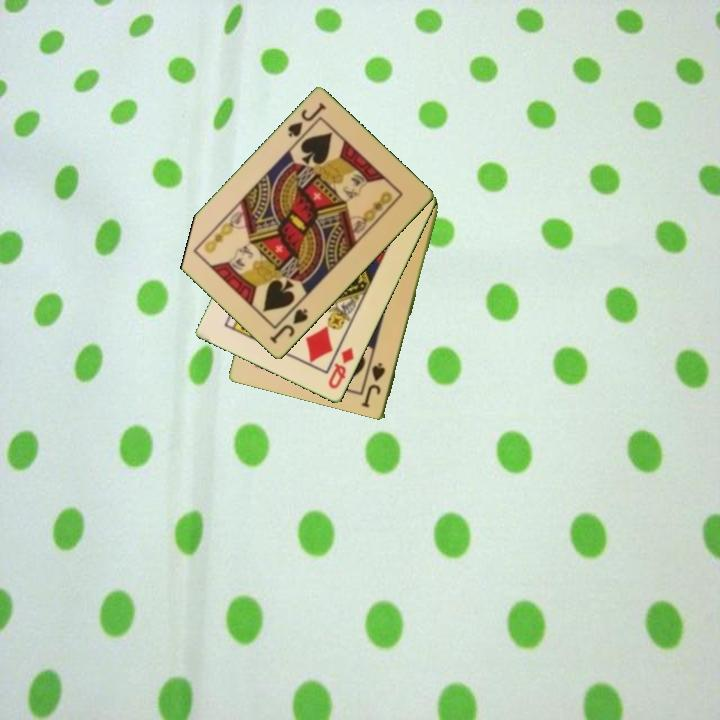Js: (284, 99, 330, 146), (266, 305, 311, 347), (360, 360, 389, 411)
Qd: (325, 344, 357, 392)
